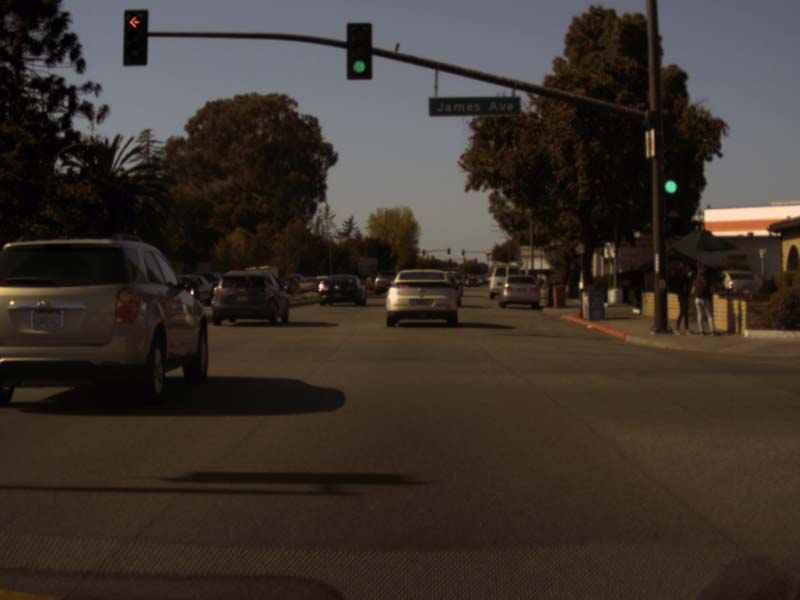Green: (346, 22, 372, 80), (662, 151, 679, 197)
Red: (122, 9, 147, 65)
Yellow: (486, 249, 489, 257)
